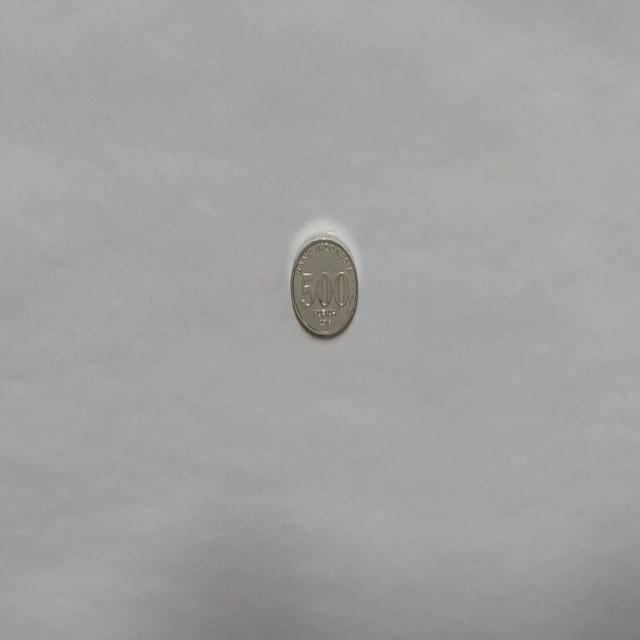lima ratus rupiah: (290, 233, 358, 339)
